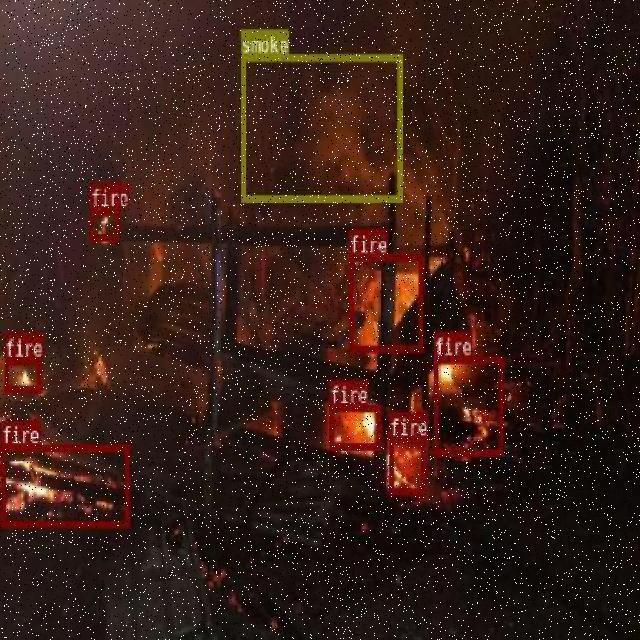Smoke: (240, 54, 402, 200)
